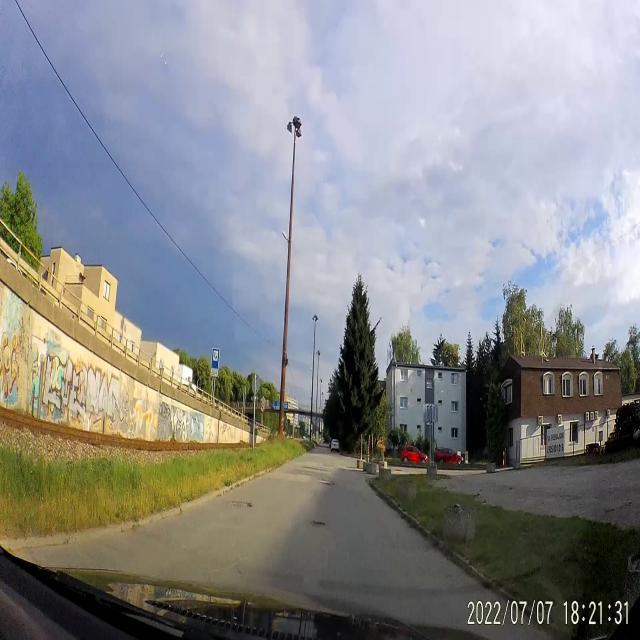Pothole: (222, 493, 256, 513), (310, 517, 328, 537)
